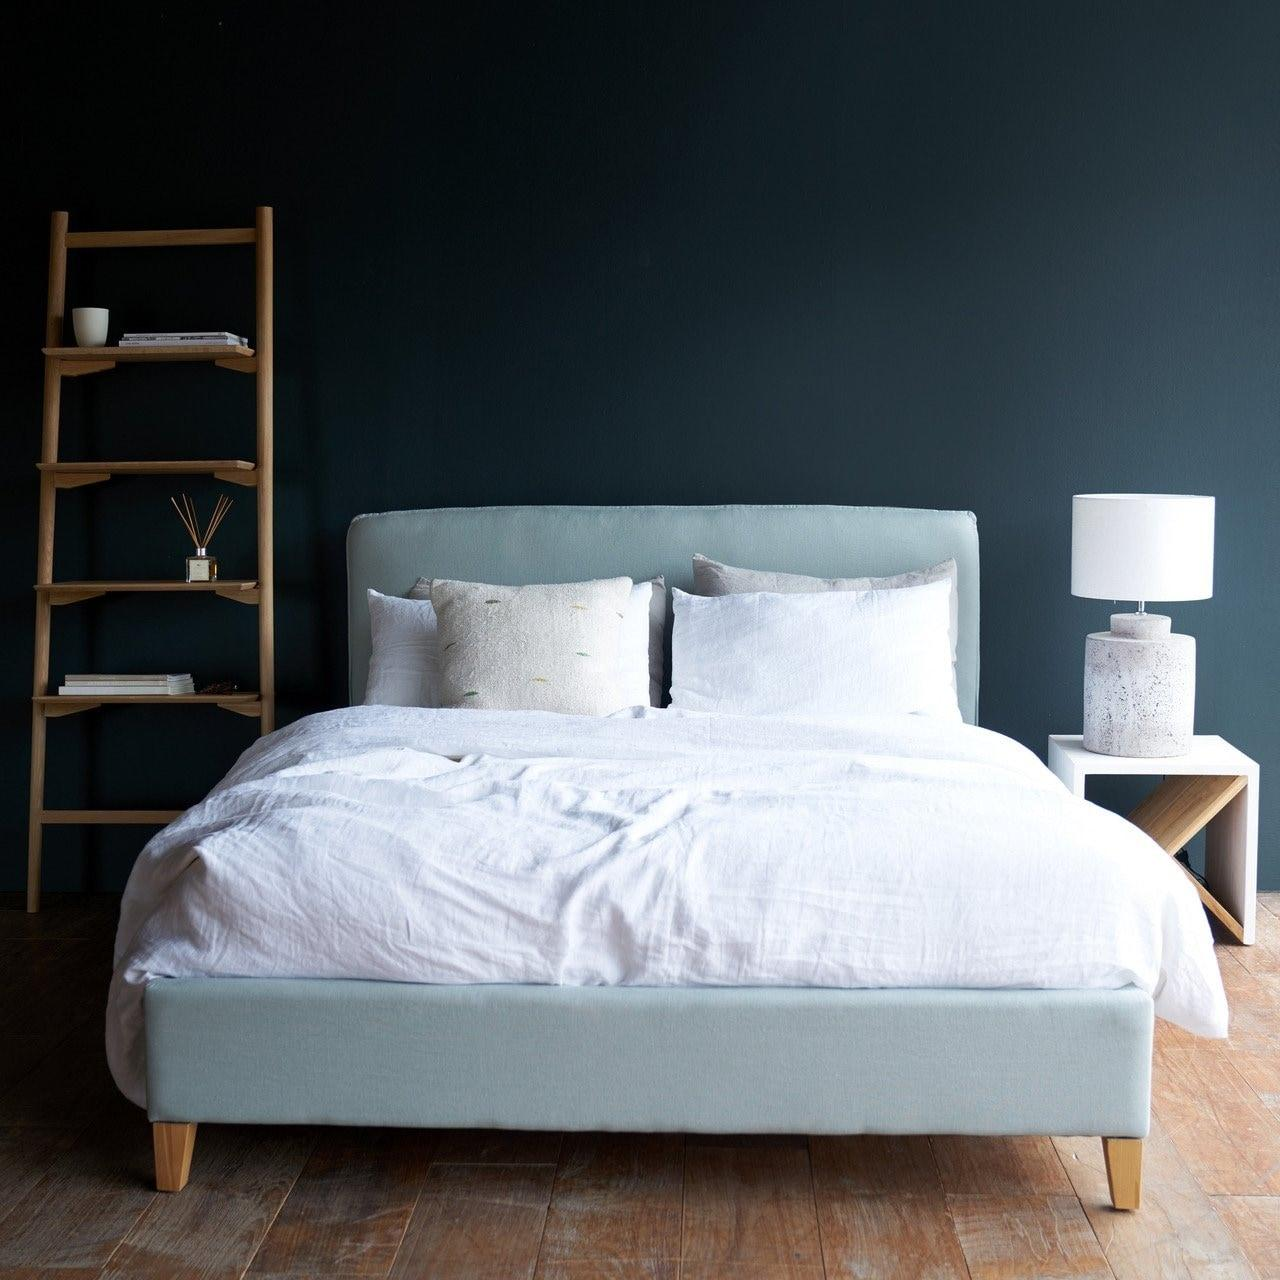bed: (210, 410, 996, 1204)
